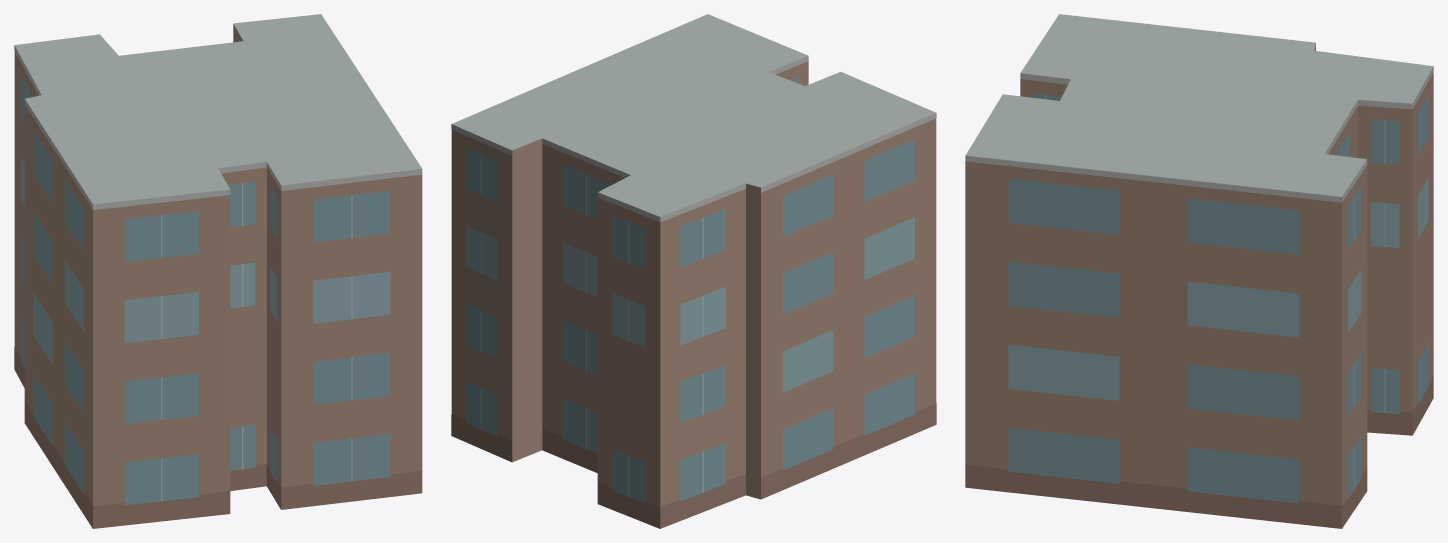
Rendered from survey-upis-32904250.glb.
The picture shows the model from 3 angles, left to right: view 1: azimuth 30°, elevation 25°; view 2: azimuth 150°, elevation 25°; view 3: azimuth 270°, elevation 25°; orthographic projection. The views are drawn at different scales.
Parts seen in each view (by area): view 1: survey-upis-32904250.tmp; view 2: survey-upis-32904250.tmp; view 3: survey-upis-32904250.tmp.
Part boxes in pixels (x1,y1,x2,y2): survey-upis-32904250.tmp: (14,14,422,528); survey-upis-32904250.tmp: (451,14,936,528); survey-upis-32904250.tmp: (965,14,1433,528).
Bounding box in the file's own units: 16.67 × 14.1 × 18.03.
